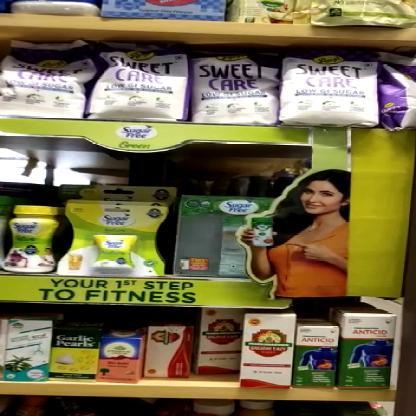SUGAR FREE NATURA 500 PELLET: (71, 207, 163, 278)
SUGAR FREE NATURA_ POWDER_CONC_100G: (10, 208, 62, 276)
